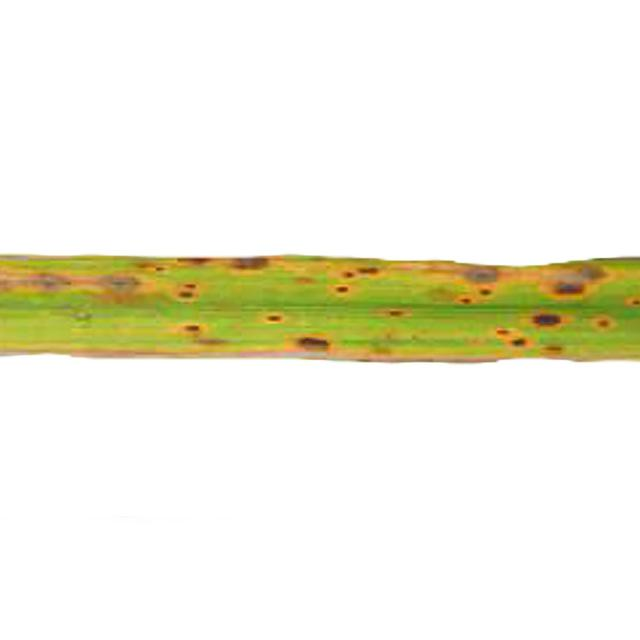Brown spot: (0, 193, 640, 388)
